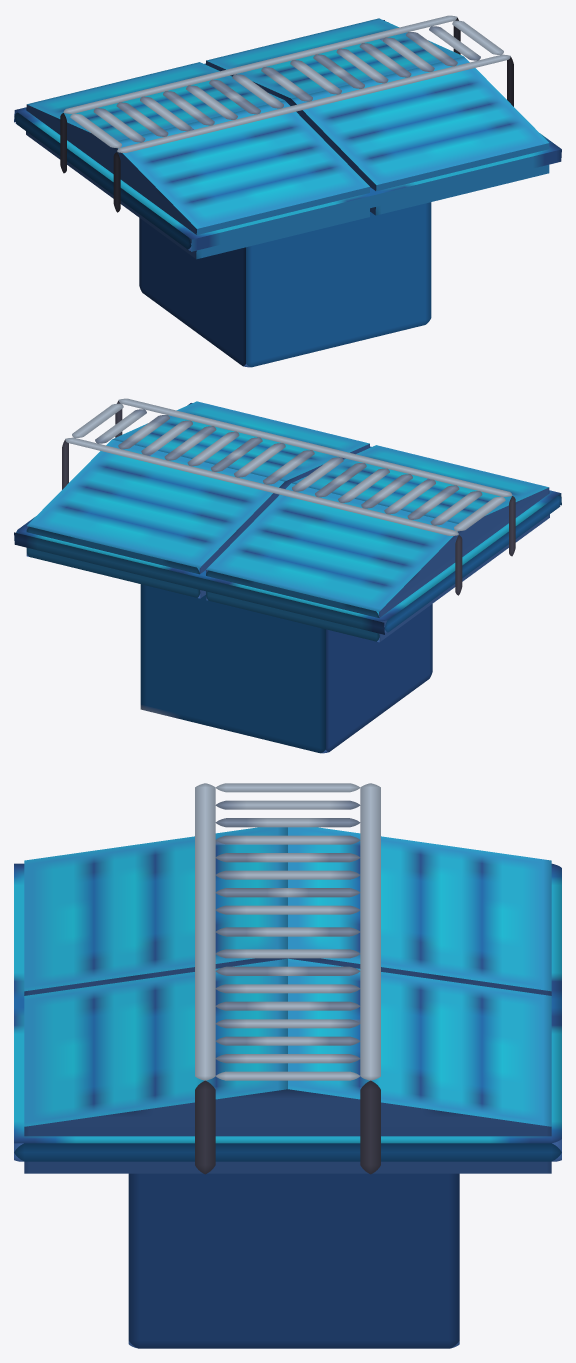
The model's file is df5_cooling_fan.obj.
The picture shows the model from 3 angles, top to bottom: view 1: azimuth 30°, elevation 25°; view 2: azimuth 150°, elevation 25°; view 3: azimuth 270°, elevation 25°; orthographic projection. The views are drawn at different scales.
Parts seen in each view (by area): view 1: cube_selection_selection; view 2: cube_selection_selection; view 3: cube_selection_selection.
Boxes of the visible parts, left/top/right/bottom form: cube_selection_selection: left=14, top=15, right=561, bottom=367; cube_selection_selection: left=14, top=398, right=561, bottom=753; cube_selection_selection: left=14, top=783, right=561, bottom=1348.
Bounding box in the file's own units: 2.13 × 1.16 × 1.66.
